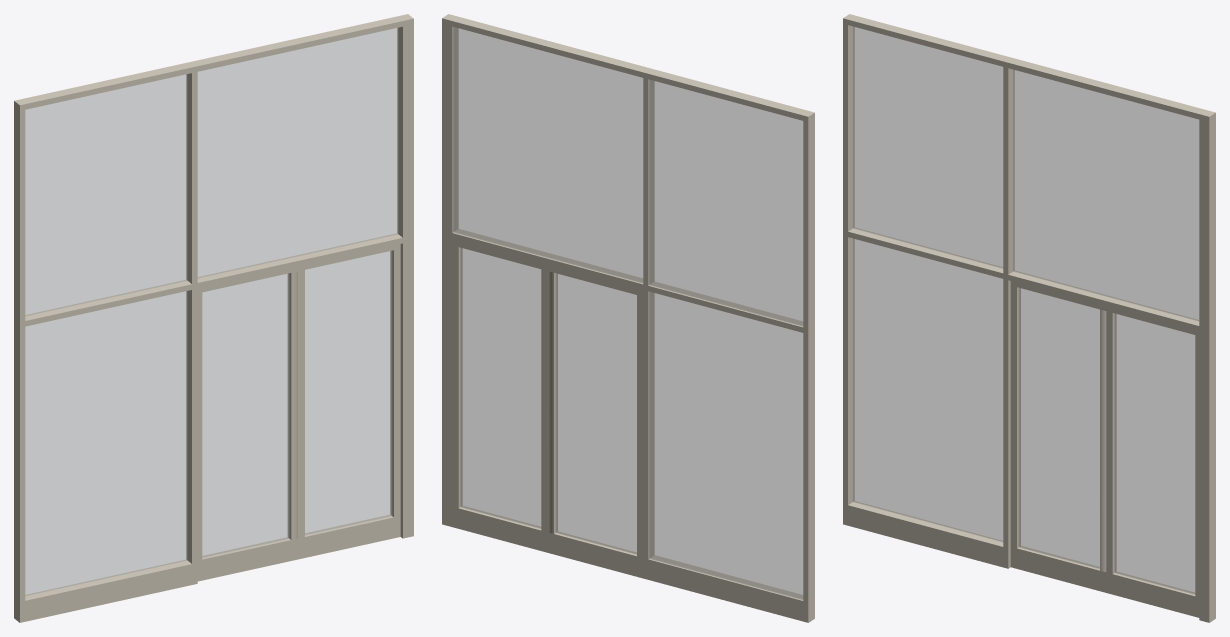
Rendered from Porte2.fbx.
3 renders of one model, left to right at view 1: azimuth 30°, elevation 25°; view 2: azimuth 150°, elevation 25°; view 3: azimuth 330°, elevation 25°, orthographic. The views are drawn at different scales.
Visible parts, largest first — view 1: IfcDoor/MI - chassis 05, IfcDoor/MI - chassis 05.002, IfcDoor/MI - chassis 05.001; view 2: IfcDoor/MI - chassis 05, IfcDoor/MI - chassis 05.001, IfcDoor/MI - chassis 05.002; view 3: IfcDoor/MI - chassis 05, IfcDoor/MI - chassis 05.001, IfcDoor/MI - chassis 05.002.
Part boxes in pixels (x1=…): IfcDoor/MI - chassis 05: x1=14, y1=14, x2=413, y2=622; IfcDoor/MI - chassis 05.002: x1=298, y1=244, x2=400, y2=559; IfcDoor/MI - chassis 05.001: x1=197, y1=266, x2=297, y2=581; IfcDoor/MI - chassis 05: x1=442, y1=14, x2=814, y2=622; IfcDoor/MI - chassis 05.001: x1=547, y1=264, x2=643, y2=578; IfcDoor/MI - chassis 05.002: x1=452, y1=238, x2=547, y2=552; IfcDoor/MI - chassis 05: x1=843, y1=14, x2=1215, y2=622; IfcDoor/MI - chassis 05.001: x1=1010, y1=281, x2=1106, y2=592; IfcDoor/MI - chassis 05.002: x1=1106, y1=306, x2=1199, y2=617.
Size of the model in its own units: 2.88 by 0.2044 by 3.7.
